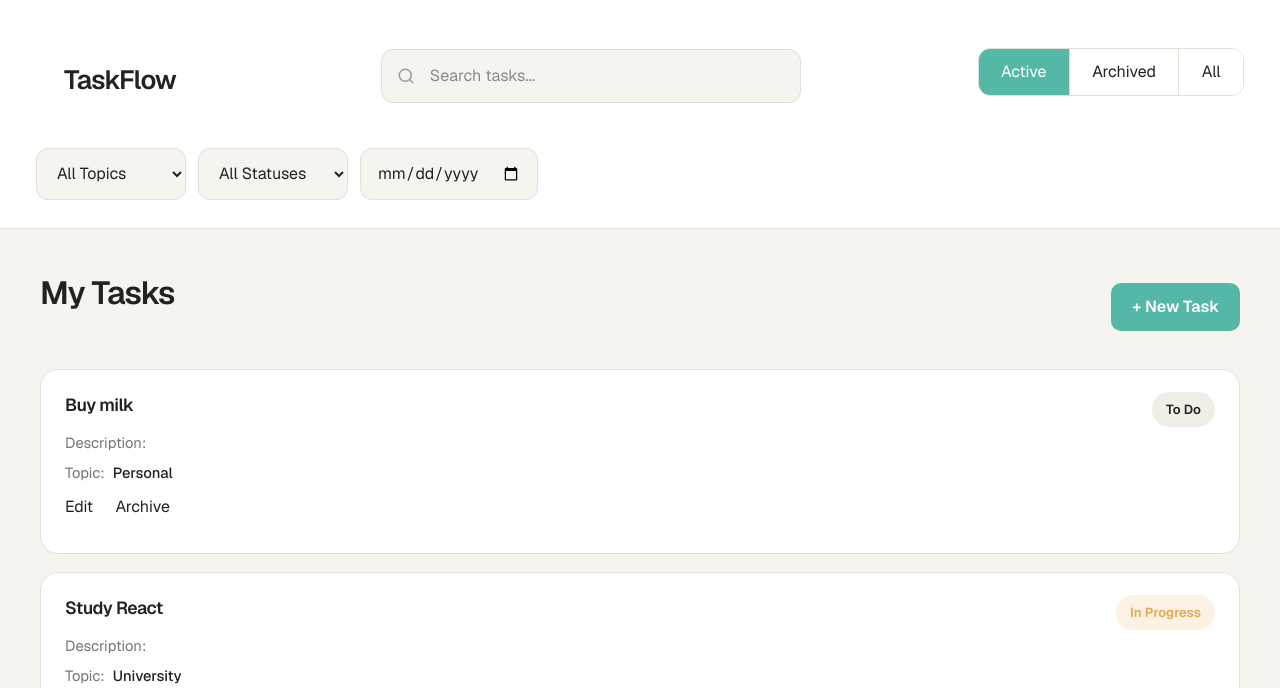
Test case: TaskFlow UI Tests › filters active, archived and all tasks correctly
This screenshot has width=1280, height=688.
Expected: the heading "Buy milk" is shown, [65,393,134,416]
Expected: the heading "Study React" is shown, [65,596,163,618]
What coordinates should you click on to do the following:
click the button "Archived"
I would click on:
 (1125, 72)
Its box is [1070,49,1180,95].
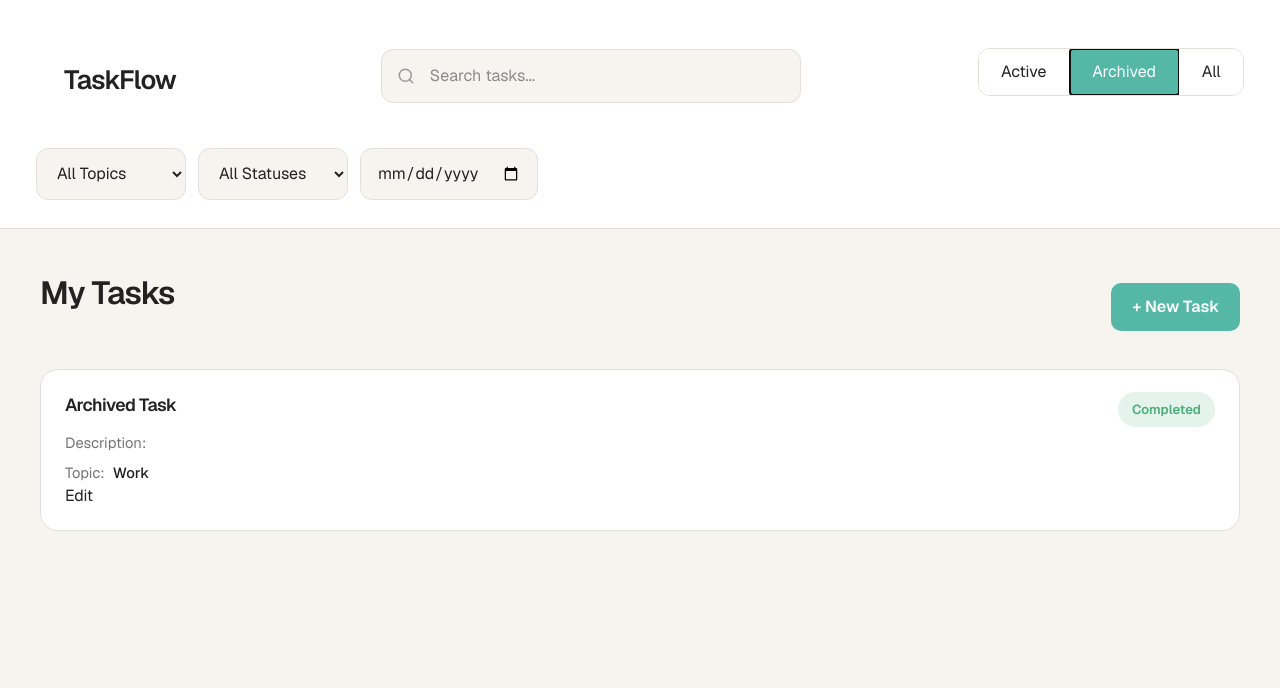
Expected: the heading "Archived Task" is shown, [65,392,177,418]
Expected: the heading "Buy milk" is gone
Expected: the heading "Study React" is gone
What coordinates should you click on to do the following:
click the button "All"
I would click on:
 (1211, 72)
Its box is [1180,49,1243,95].
(page scrolled)
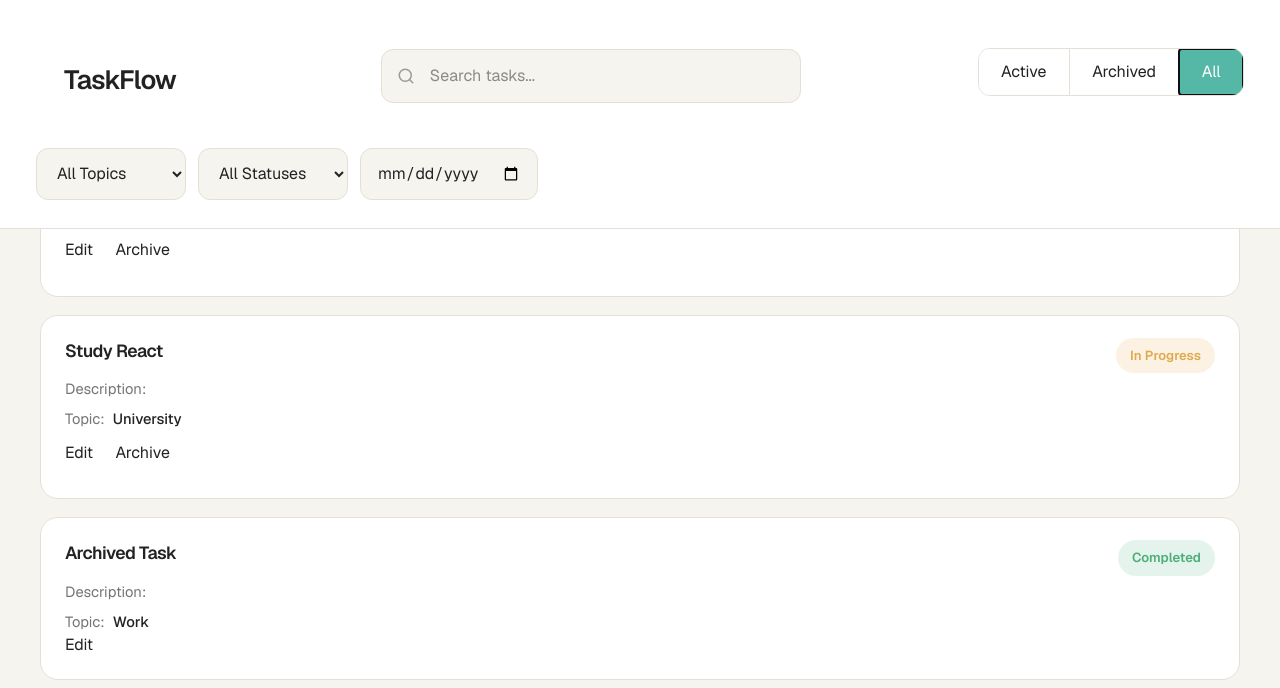
Expected: the heading "Archived Task" is shown, [65,540,177,567]
Expected: the heading "Study React" is shown, [65,338,163,362]
